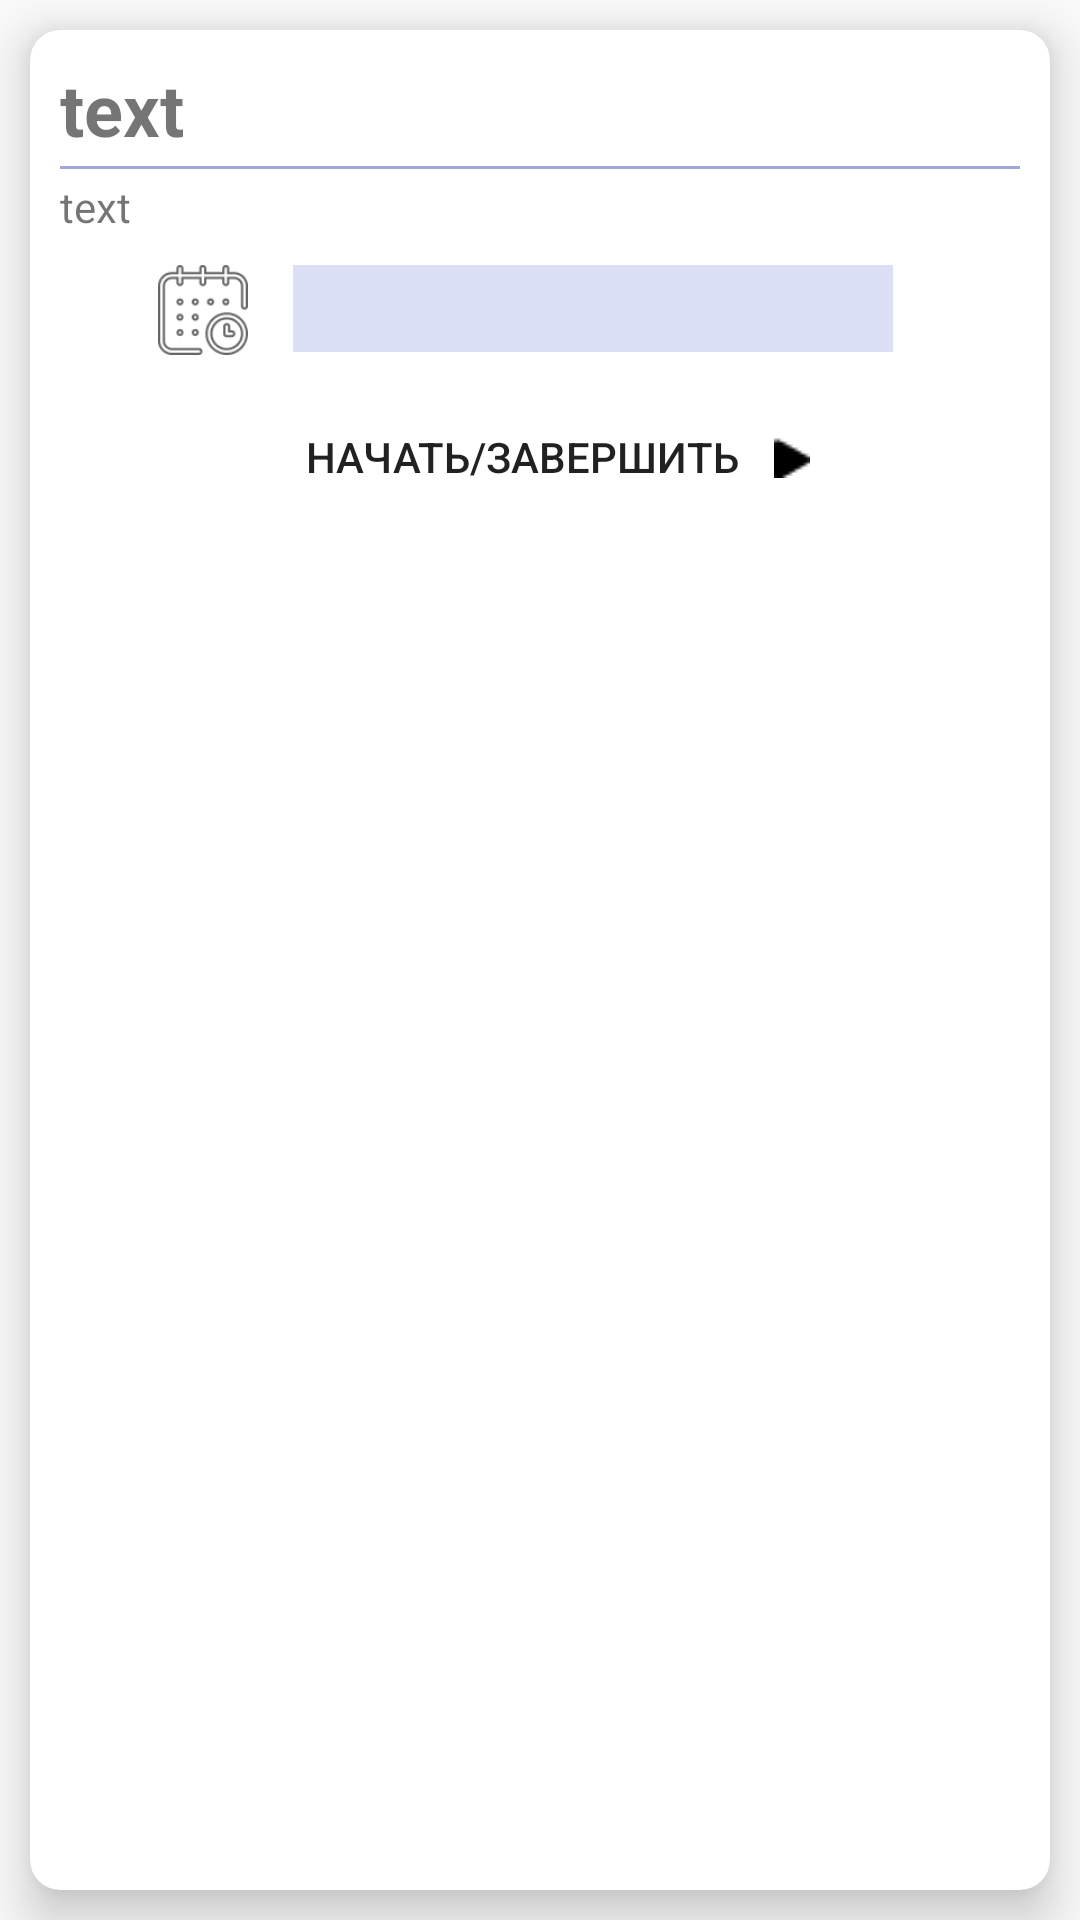

Named icons in this screenshot (1080w x 1920h) and their bounding boxes, (x1, y1, x2, y2):
calendar: (158, 265, 248, 355)
